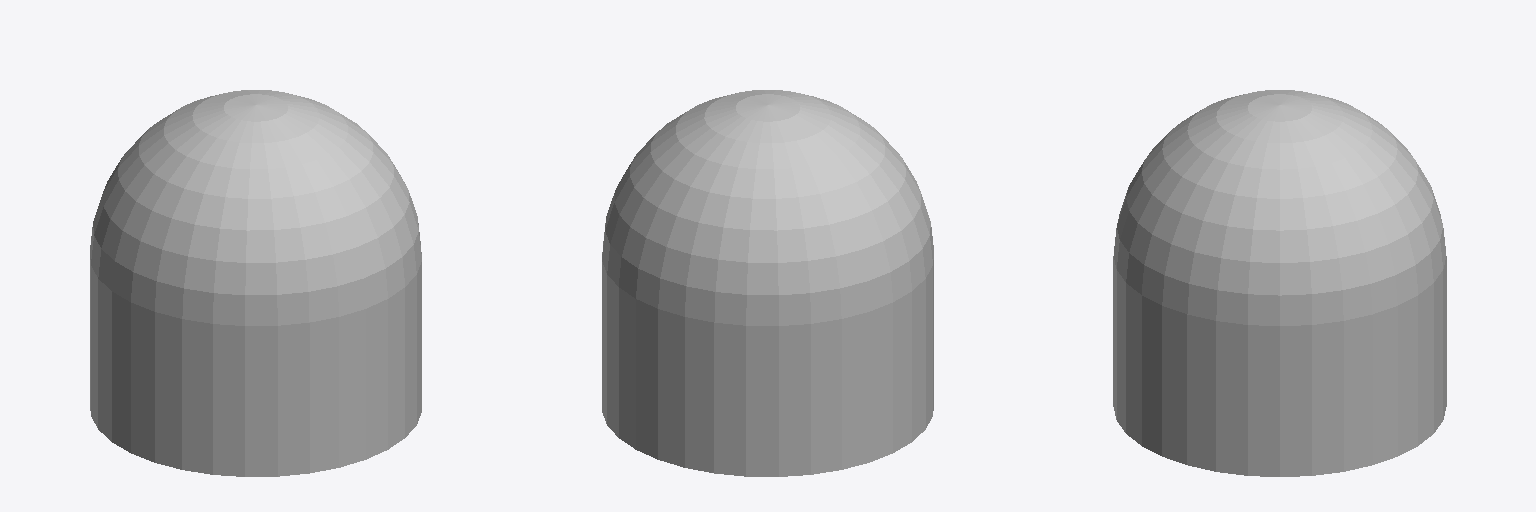
The model's file is tail.obj.
The picture shows the model from 3 angles: view 1: azimuth 30°, elevation 25°; view 2: azimuth 150°, elevation 25°; view 3: azimuth 270°, elevation 25°; orthographic projection.
Visible parts, largest first — view 1: Cylinder; view 2: Cylinder; view 3: Cylinder.
Part boxes in pixels (bbox=[...]): Cylinder: bbox=[90, 90, 421, 476]; Cylinder: bbox=[602, 90, 933, 476]; Cylinder: bbox=[1113, 90, 1446, 476].
Size of the model in its own units: 2 by 2 by 2.